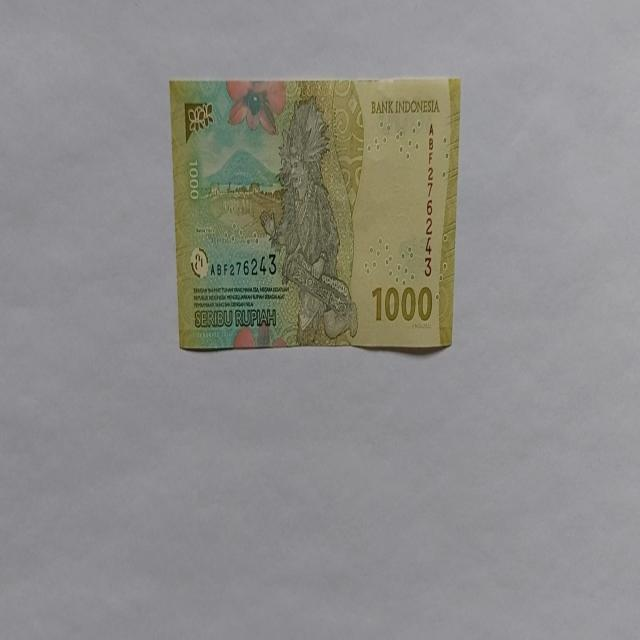seribu rupiah kertas: (168, 75, 462, 353)
